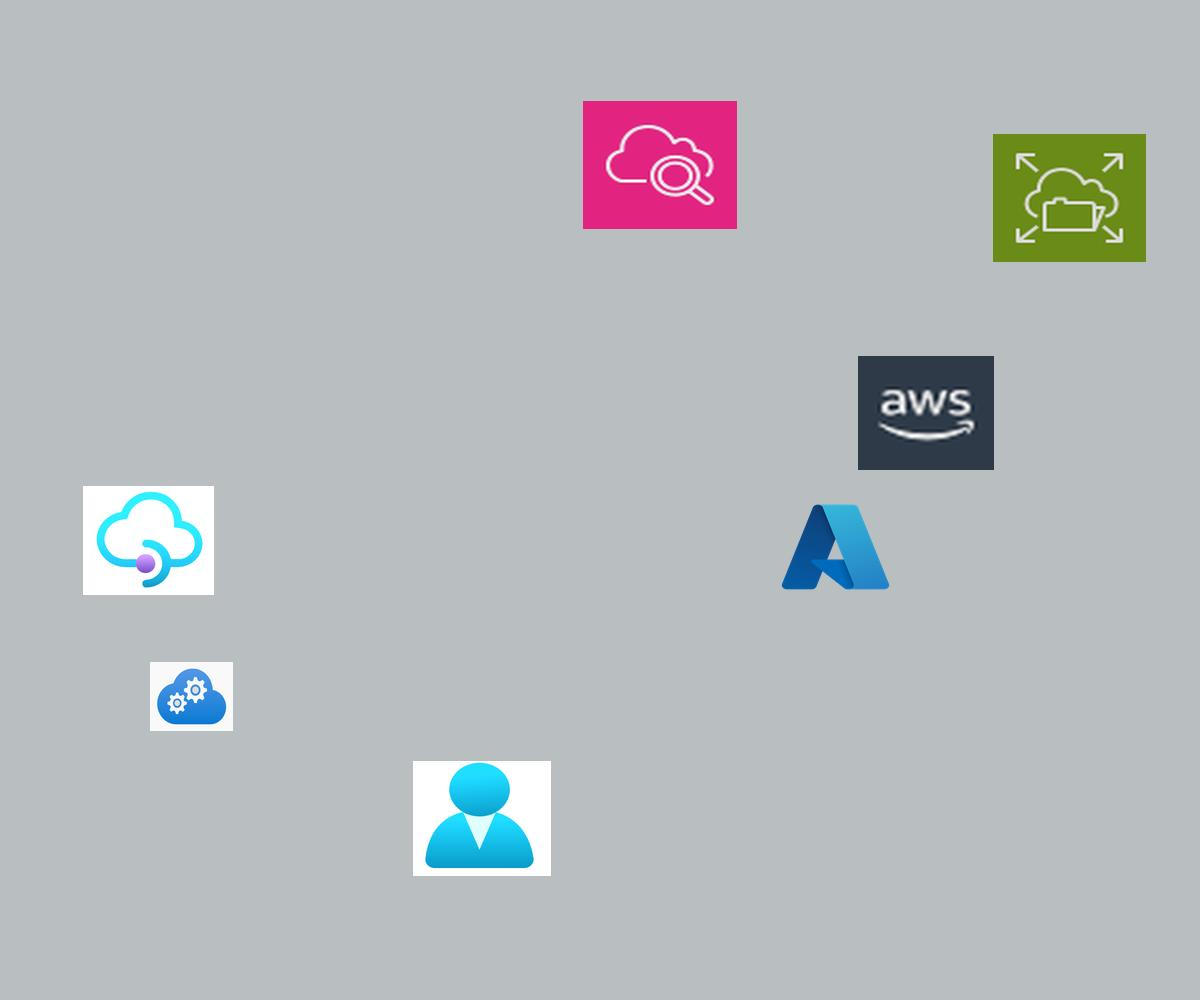AWS-Cloud-logo: (858, 356, 994, 470)
AWS-CloudWatch: (583, 101, 737, 229)
AWS-EFS: (993, 134, 1146, 262)
Azure_api_gateway: (83, 486, 214, 595)
Azure_cloud_services: (150, 662, 233, 731)
Azure_services: (777, 498, 894, 596)
Azure_users: (413, 761, 551, 876)
